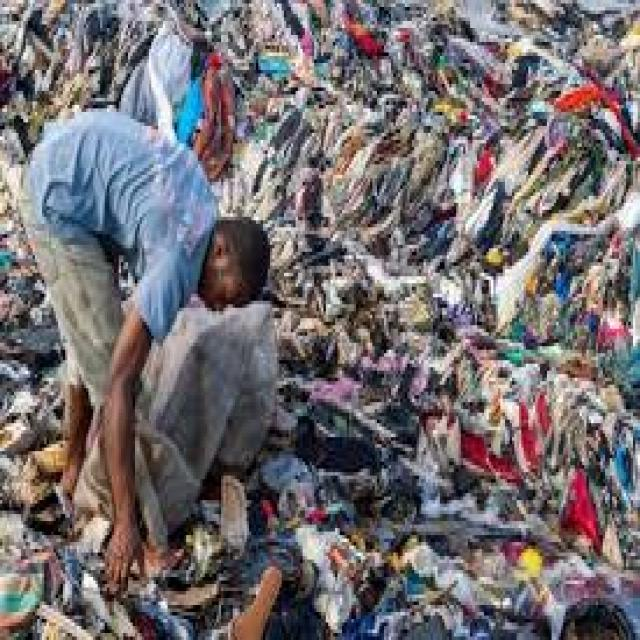Clothes -Biodegradable-: (0, 0, 640, 517), (0, 455, 640, 640)
Plastic -Non-Biodegradable but Recyclable-: (136, 300, 280, 535)
